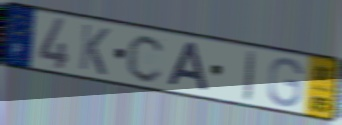4: (37, 14, 71, 72)
A: (165, 40, 210, 94)
C: (125, 32, 168, 84)
G: (265, 56, 305, 109)
I: (242, 48, 258, 104)
K: (77, 22, 112, 78)
